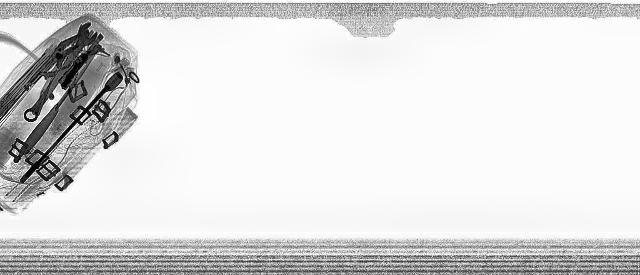Knife: (15, 45, 107, 155)
Wrench: (14, 22, 108, 122)
